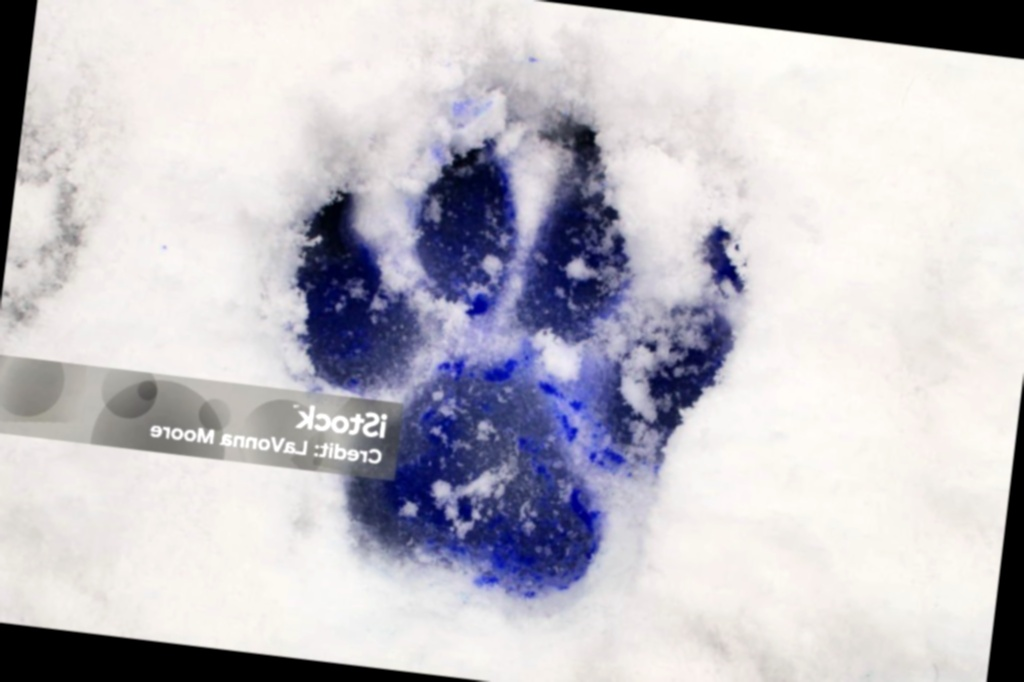loup: (213, 22, 824, 645)
